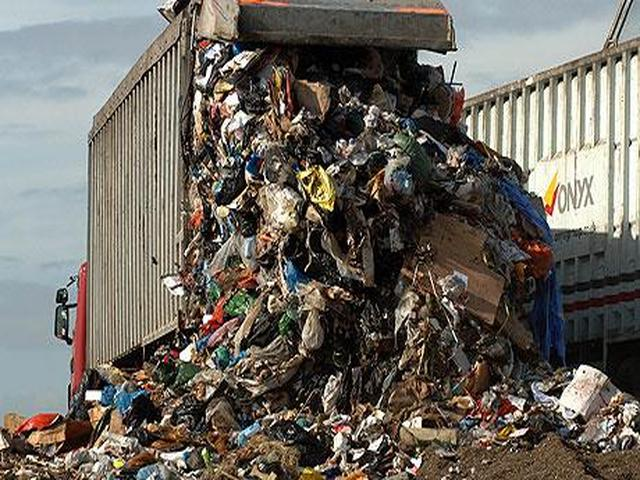garbage: (200, 86, 461, 450), (89, 391, 232, 461)
